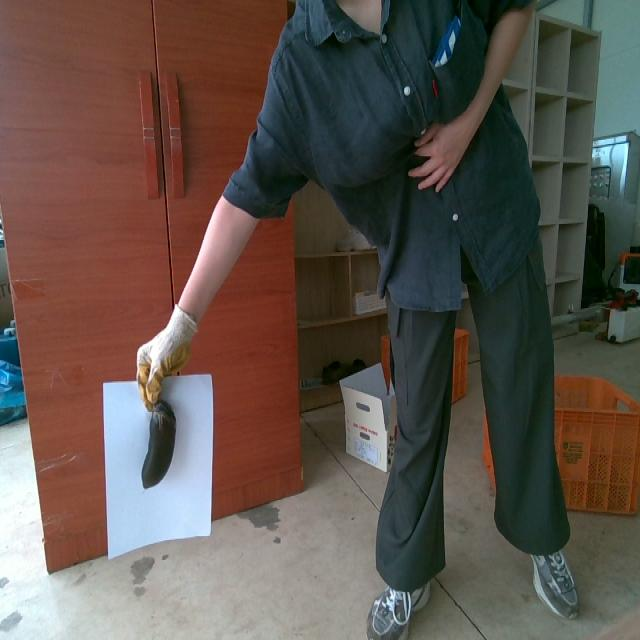Egg plant: (141, 400, 175, 488)
